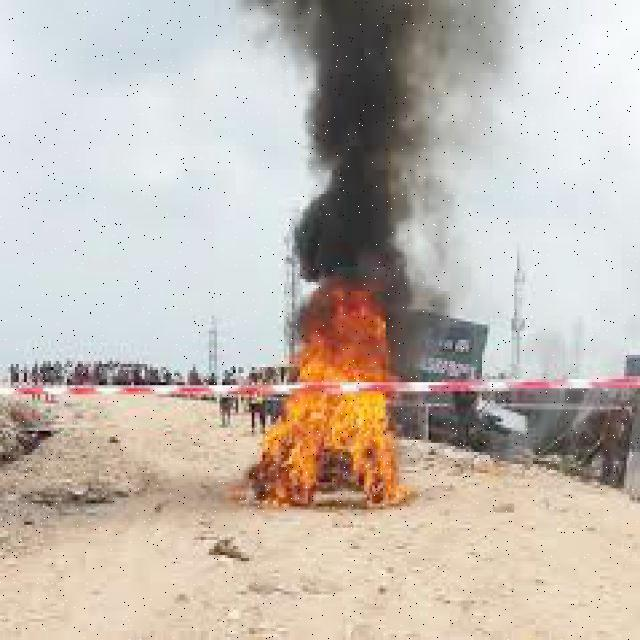fire: (262, 357, 404, 518)
smoke: (266, 5, 494, 296)
